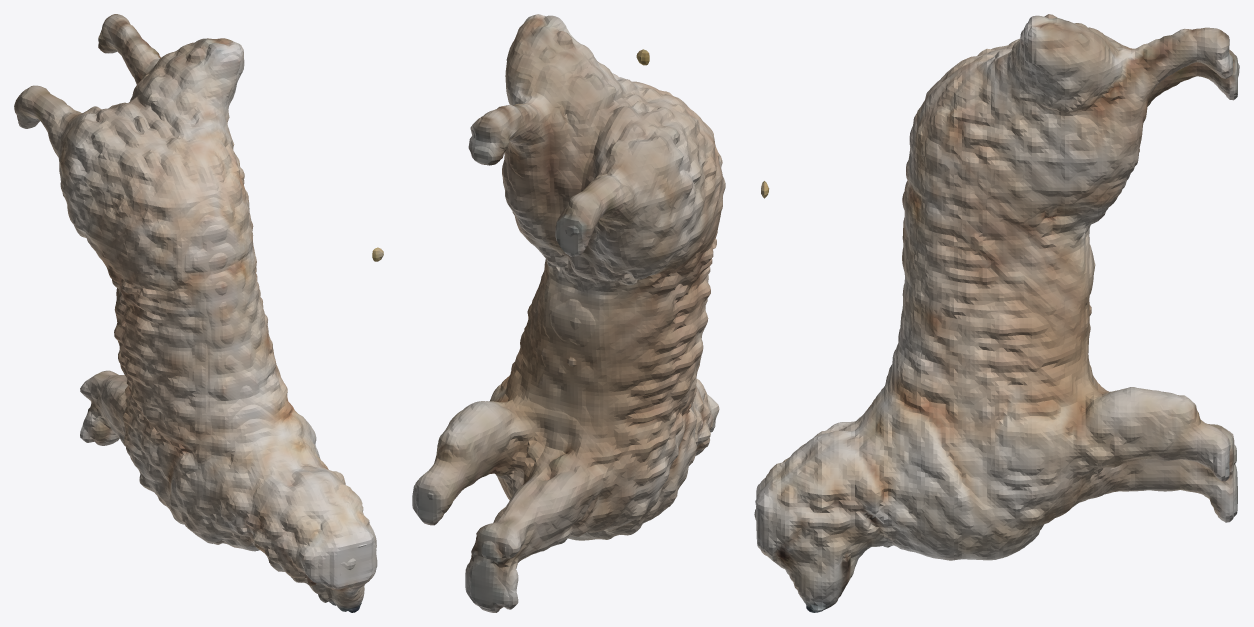
3 views of the same model, side by side, from view 1: azimuth 30°, elevation 25°; view 2: azimuth 150°, elevation 25°; view 3: azimuth 270°, elevation 25° (orthographic). The views are drawn at different scales.
Parts seen in each view (by area): view 1: world; view 2: world; view 3: world.
Boxes of the visible parts, box(x1,y1,x2,y2) form: world: box(14, 14, 383, 612); world: box(412, 14, 725, 612); world: box(754, 14, 1239, 612).
Bounding box in the file's own units: 0.4249 × 1.05 × 0.8038.
